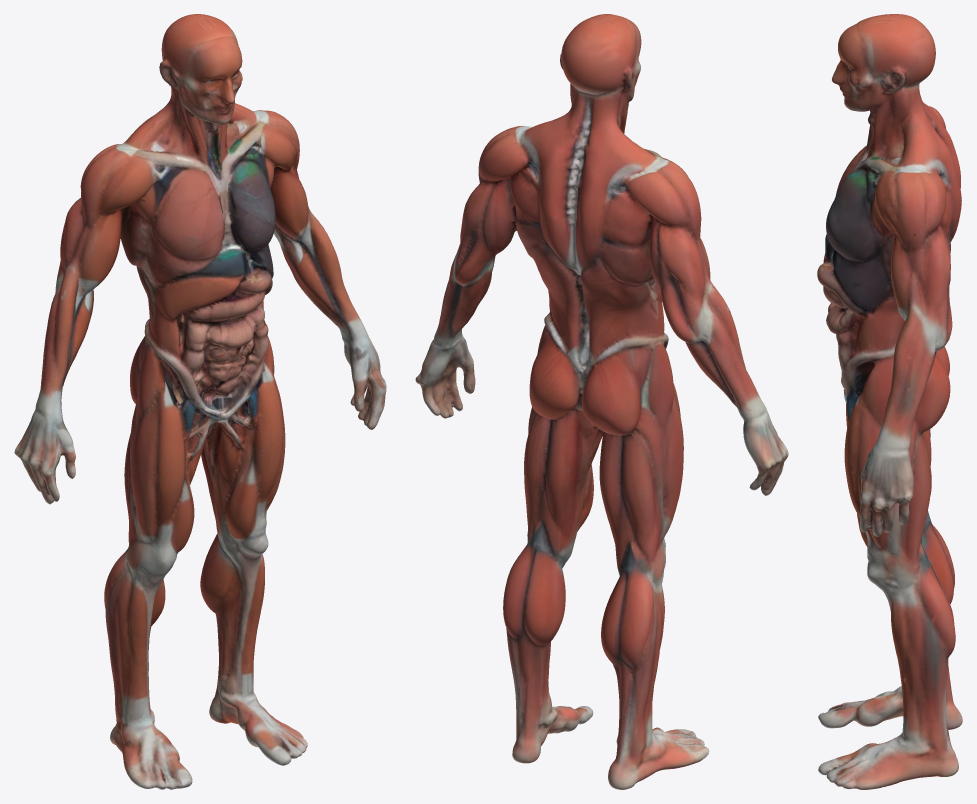
File: human_body_fast.glb
3 renders of one model, left to right at view 1: azimuth 30°, elevation 25°; view 2: azimuth 150°, elevation 25°; view 3: azimuth 270°, elevation 25°, orthographic.
Size of the model in its own units: 1.02 by 2 by 0.3604.
1 material, 1 textured.
